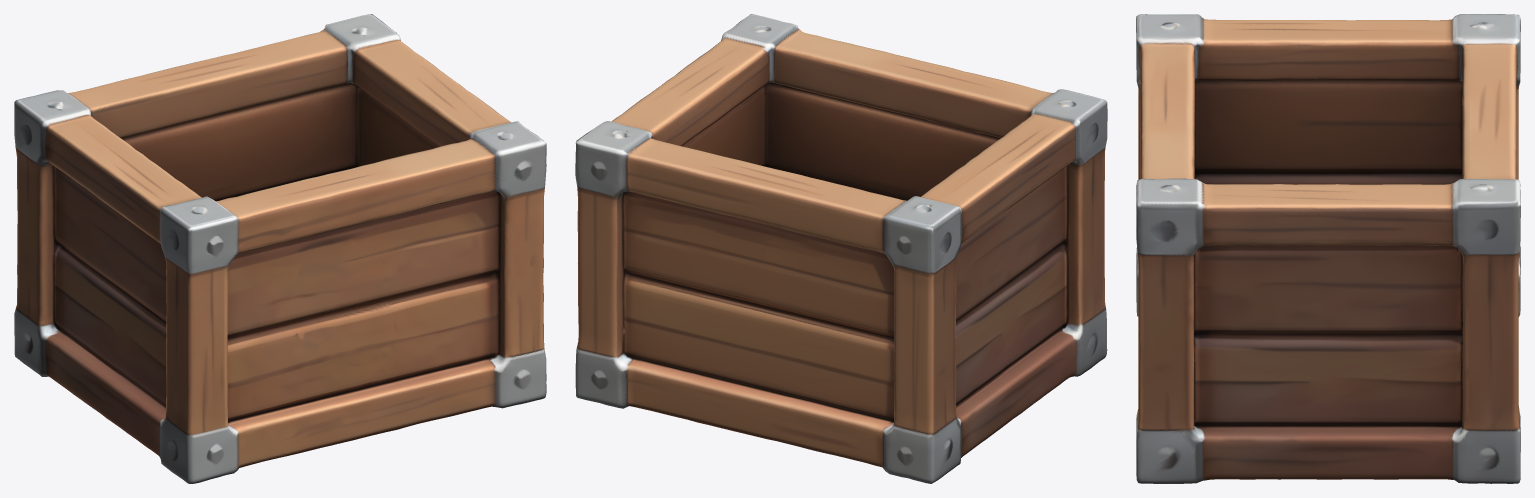
File: crate-rodin.glb
3 views of the same model, side by side, from view 1: azimuth 30°, elevation 25°; view 2: azimuth 150°, elevation 25°; view 3: azimuth 270°, elevation 25° (orthographic). The views are drawn at different scales.
Parts seen in each view (by area): view 1: model; view 2: model; view 3: model.
Part boxes in pixels (<box>): model: <box>14,14,546,483</box>; model: <box>575,14,1107,483</box>; model: <box>1136,14,1520,483</box>.
Bounding box in the file's own units: 1.78 × 1.24 × 1.52.
1 material, 1 textured.
